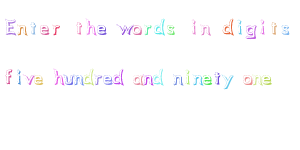E: (2, 16, 16, 36)
a: (131, 73, 143, 85)
d: (152, 65, 166, 86), (112, 66, 124, 86), (221, 18, 234, 35), (153, 17, 165, 35), (83, 66, 94, 85)
e: (37, 23, 50, 35), (202, 73, 213, 87), (96, 23, 108, 35), (261, 74, 273, 86), (103, 72, 112, 86), (34, 74, 44, 86)
f: (2, 67, 14, 84)
g: (245, 24, 257, 40)
h: (84, 16, 96, 35), (53, 67, 64, 87)
i: (188, 16, 198, 35), (258, 17, 267, 35), (14, 69, 23, 86), (184, 68, 192, 87), (236, 19, 244, 35)
n: (199, 21, 212, 36), (172, 72, 184, 87), (16, 23, 28, 36), (191, 73, 202, 86), (74, 72, 83, 85), (144, 73, 153, 86), (252, 75, 262, 85)
o: (131, 24, 143, 36), (242, 74, 253, 85)
r: (51, 23, 61, 37), (143, 23, 152, 35), (94, 73, 102, 86)
s: (280, 23, 291, 36), (166, 23, 176, 36)
t: (28, 19, 38, 35), (212, 69, 221, 86), (269, 21, 279, 36), (74, 20, 83, 36)
u: (62, 72, 73, 86)
v: (23, 74, 34, 85)
w: (116, 23, 133, 36)
y: (220, 73, 234, 90)
